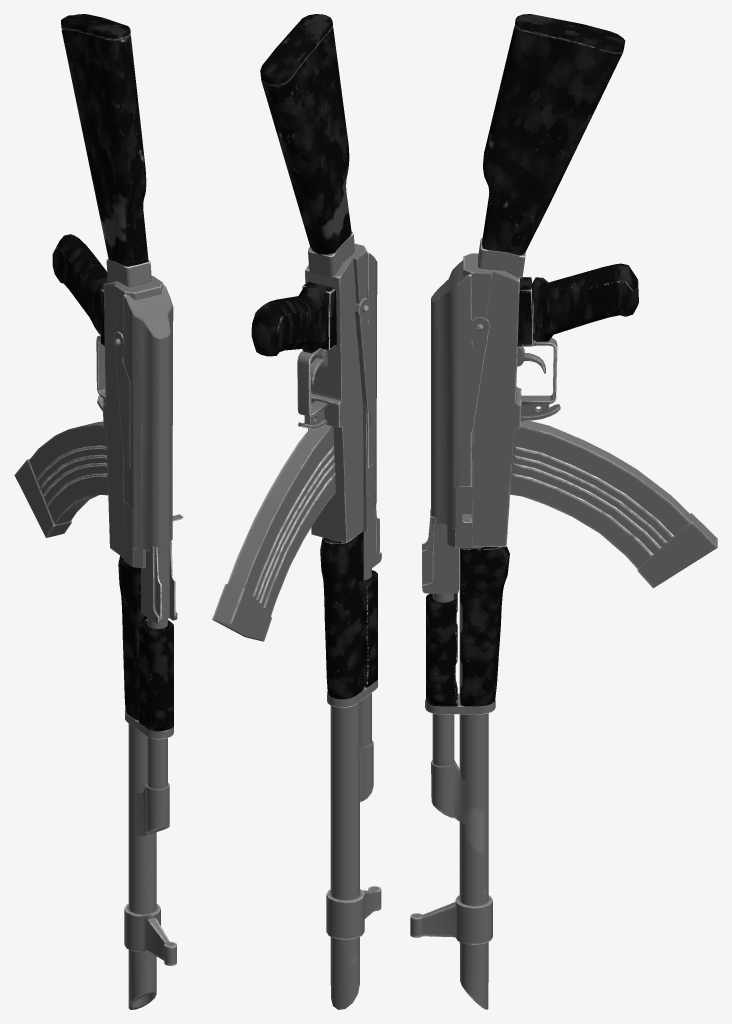
3 renders of one model, left to right at view 1: azimuth 30°, elevation 25°; view 2: azimuth 150°, elevation 25°; view 3: azimuth 270°, elevation 25°, orthographic. The views are drawn at different scales.
Parts seen in each view (by area): view 1: ak_47; view 2: ak_47; view 3: ak_47.
Part boxes in pixels (<box>): ak_47: <box>14,14,183,1009</box>; ak_47: <box>212,14,381,1009</box>; ak_47: <box>410,14,717,1009</box>.
Bounding box in the file's own units: 82.24 × 354 × 1257.
